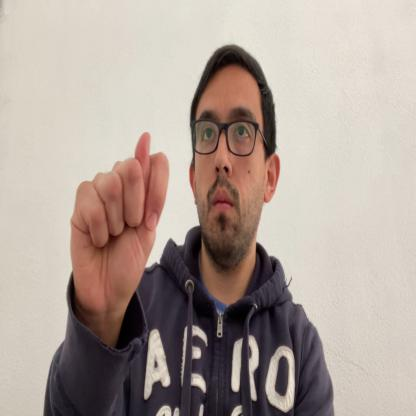T: (71, 130, 171, 313)
